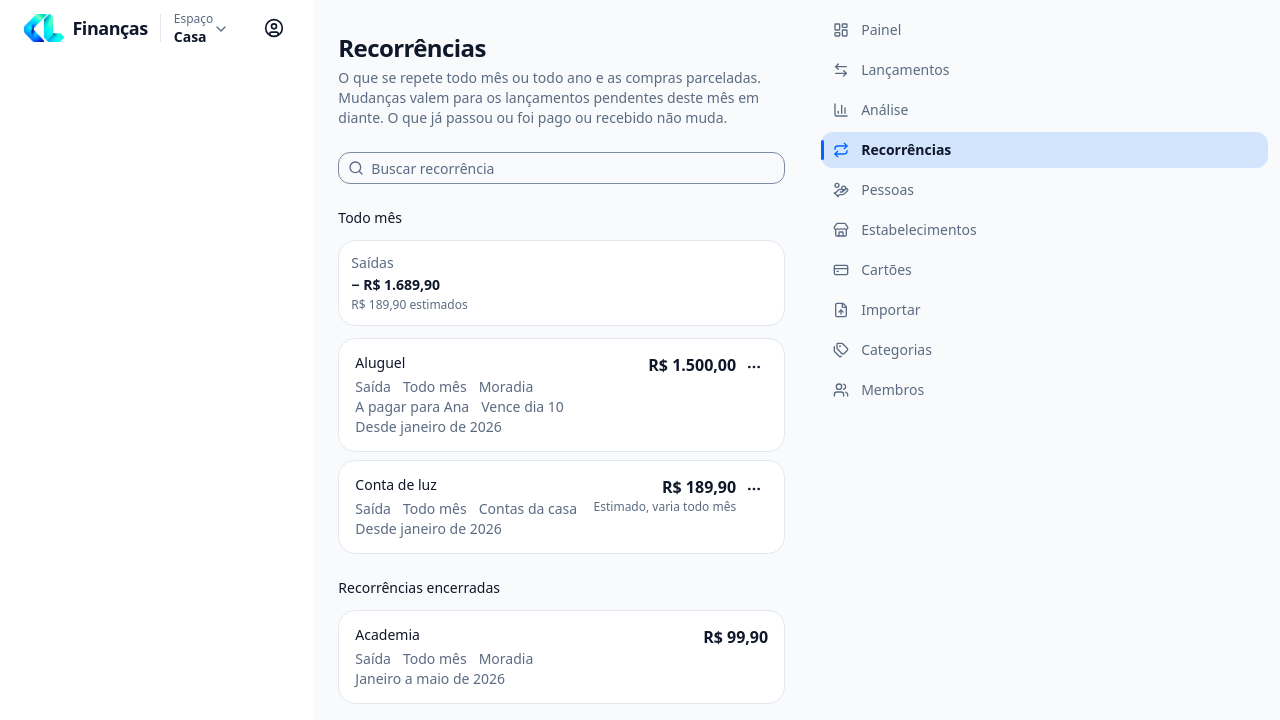
Scenario: RecurrencesPage › sends only what changed when editing a recurrence
Click the button named "Ações de Aluguel".
click(754, 367)  # box [740, 353, 768, 381]
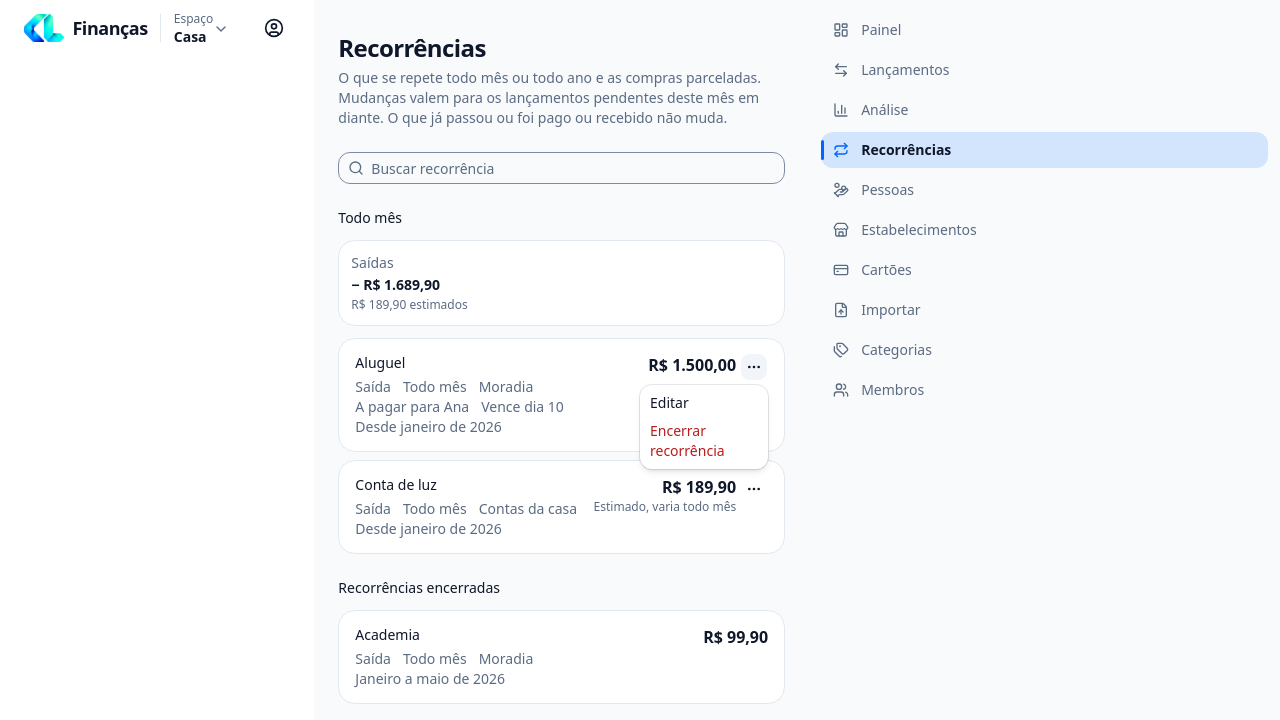
Click the menu item "Editar".
click(669, 402)  # box [650, 393, 689, 412]
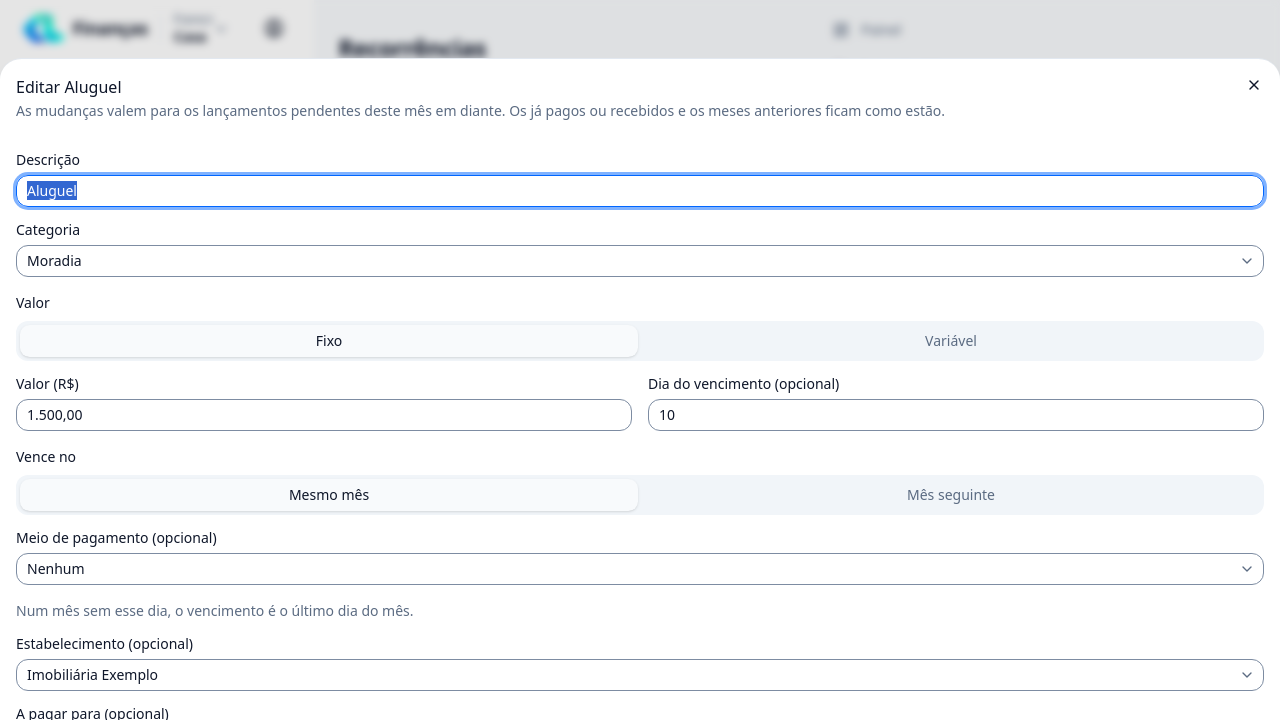
expect the dialog "Editar Aluguel" shows "pendentes deste mês em diante": met, box [16, 101, 945, 120]
Replace the text in the field labelled "Valor (R$)" with "1.600,00" at (324, 415), box [16, 399, 632, 431]
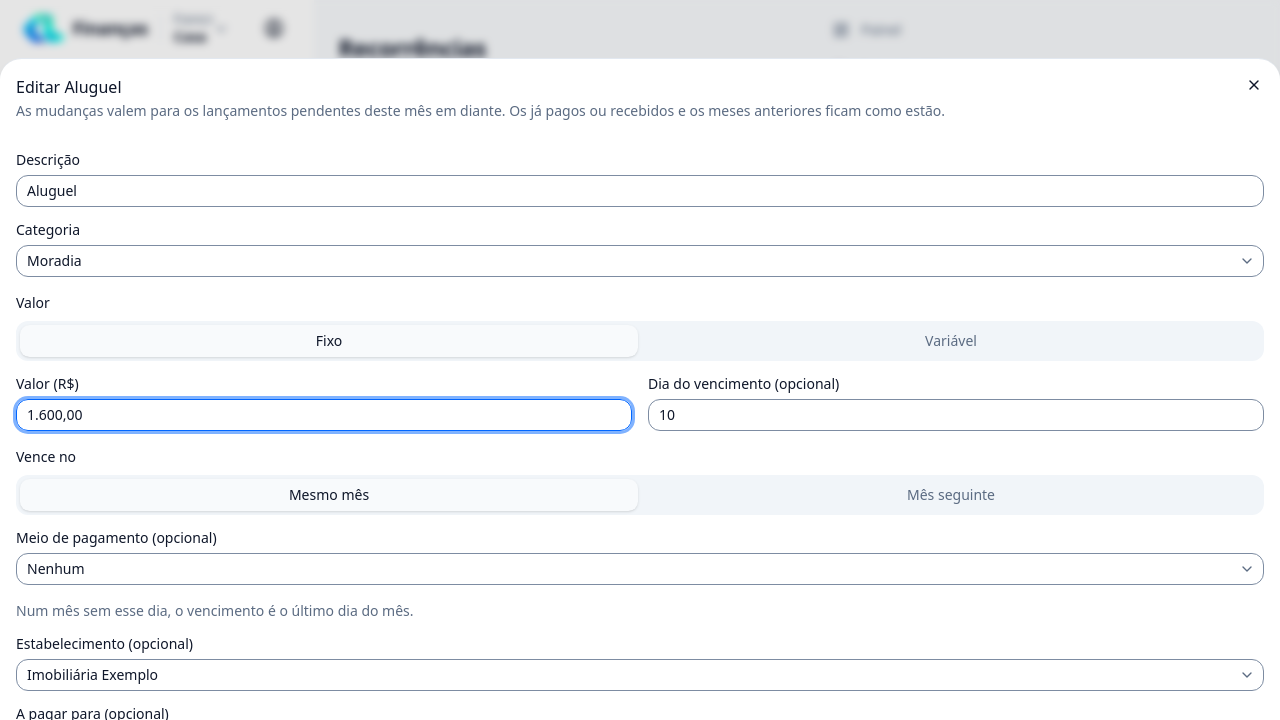
Replace the text in the field labelled "Dia do vencimento (opcional)" with "5" at (956, 415), box [648, 399, 1264, 431]
(page scrolled)
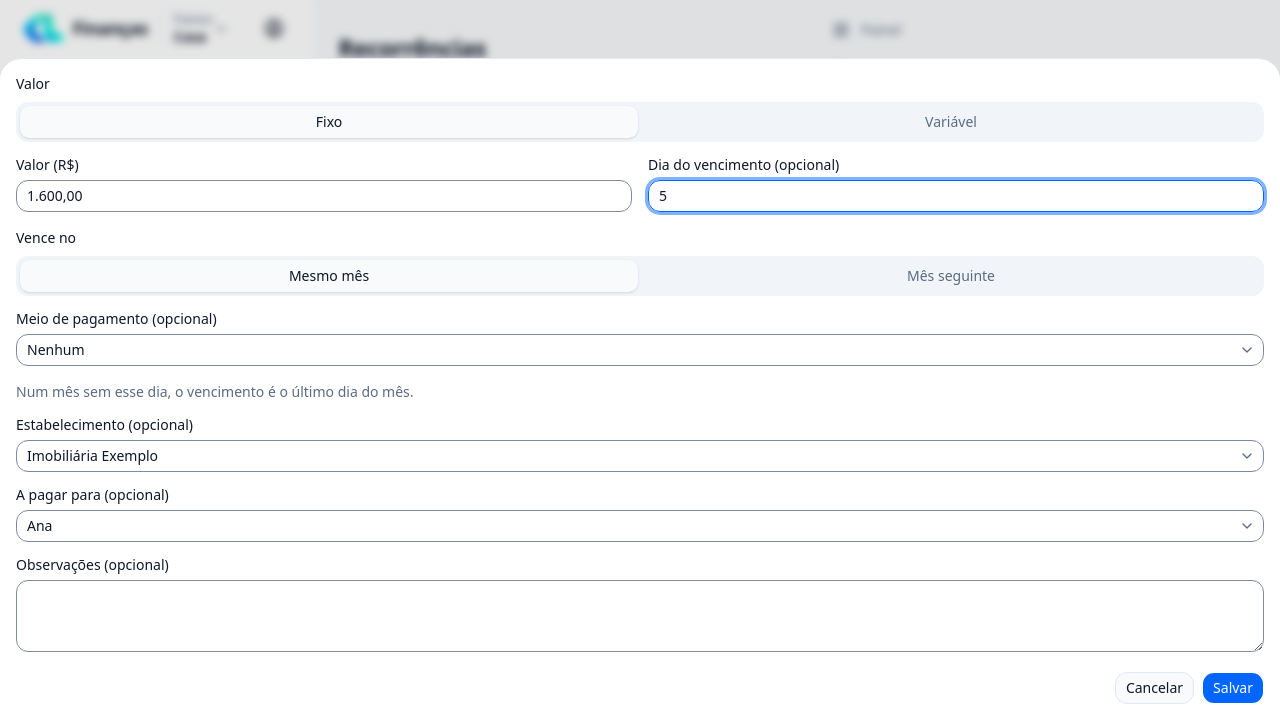
Click the button "Salvar".
click(1233, 688)  # box [1202, 672, 1264, 704]
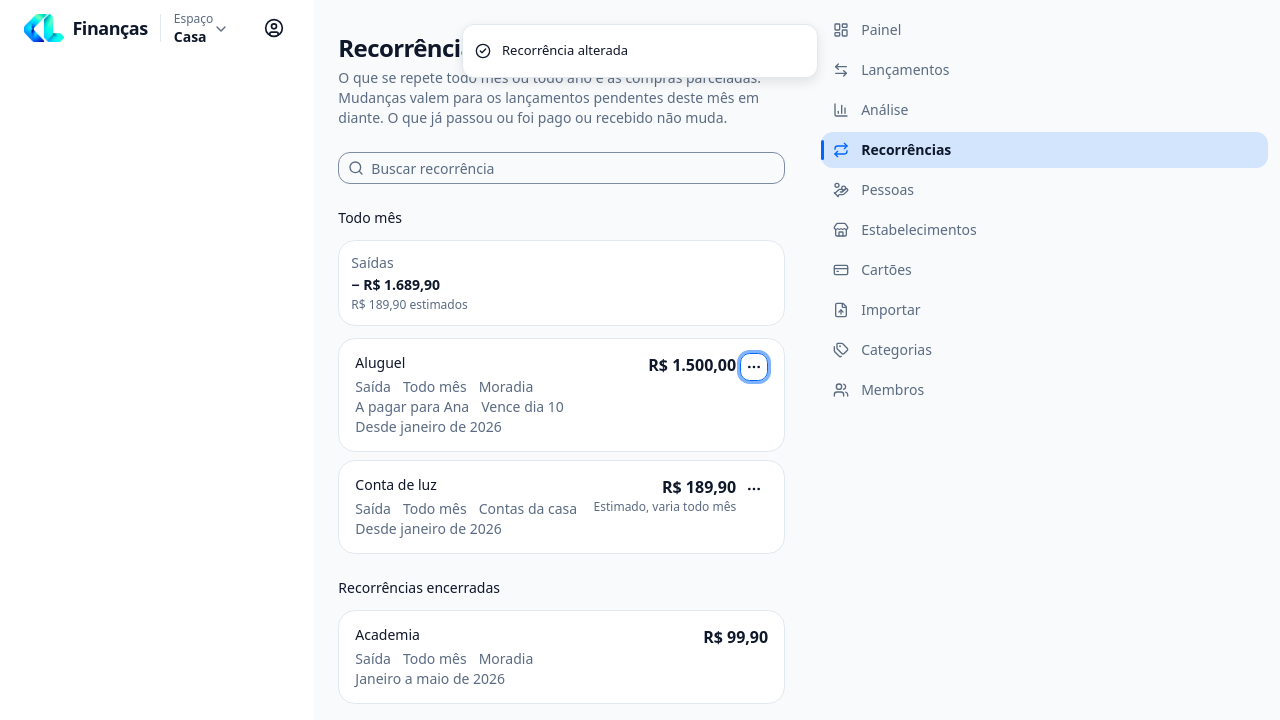
expect the text "Recorrência alterada" is shown: met, box [502, 41, 628, 60]
expect the dialog is gone: met
